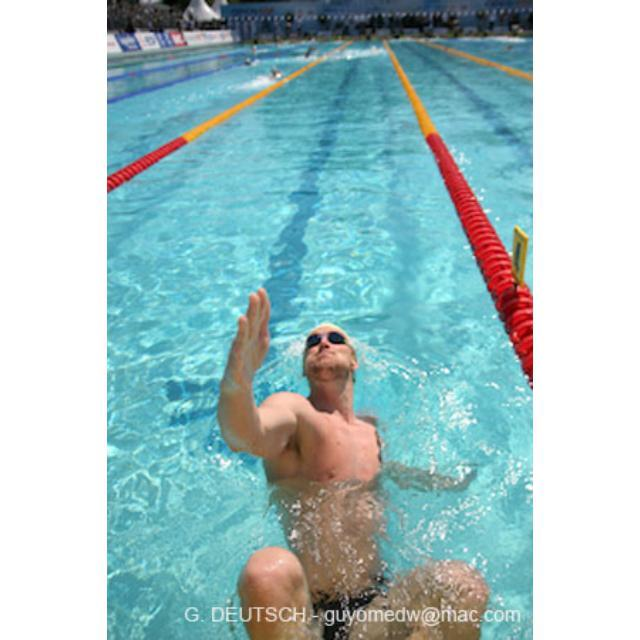human: (219, 290, 493, 639)
